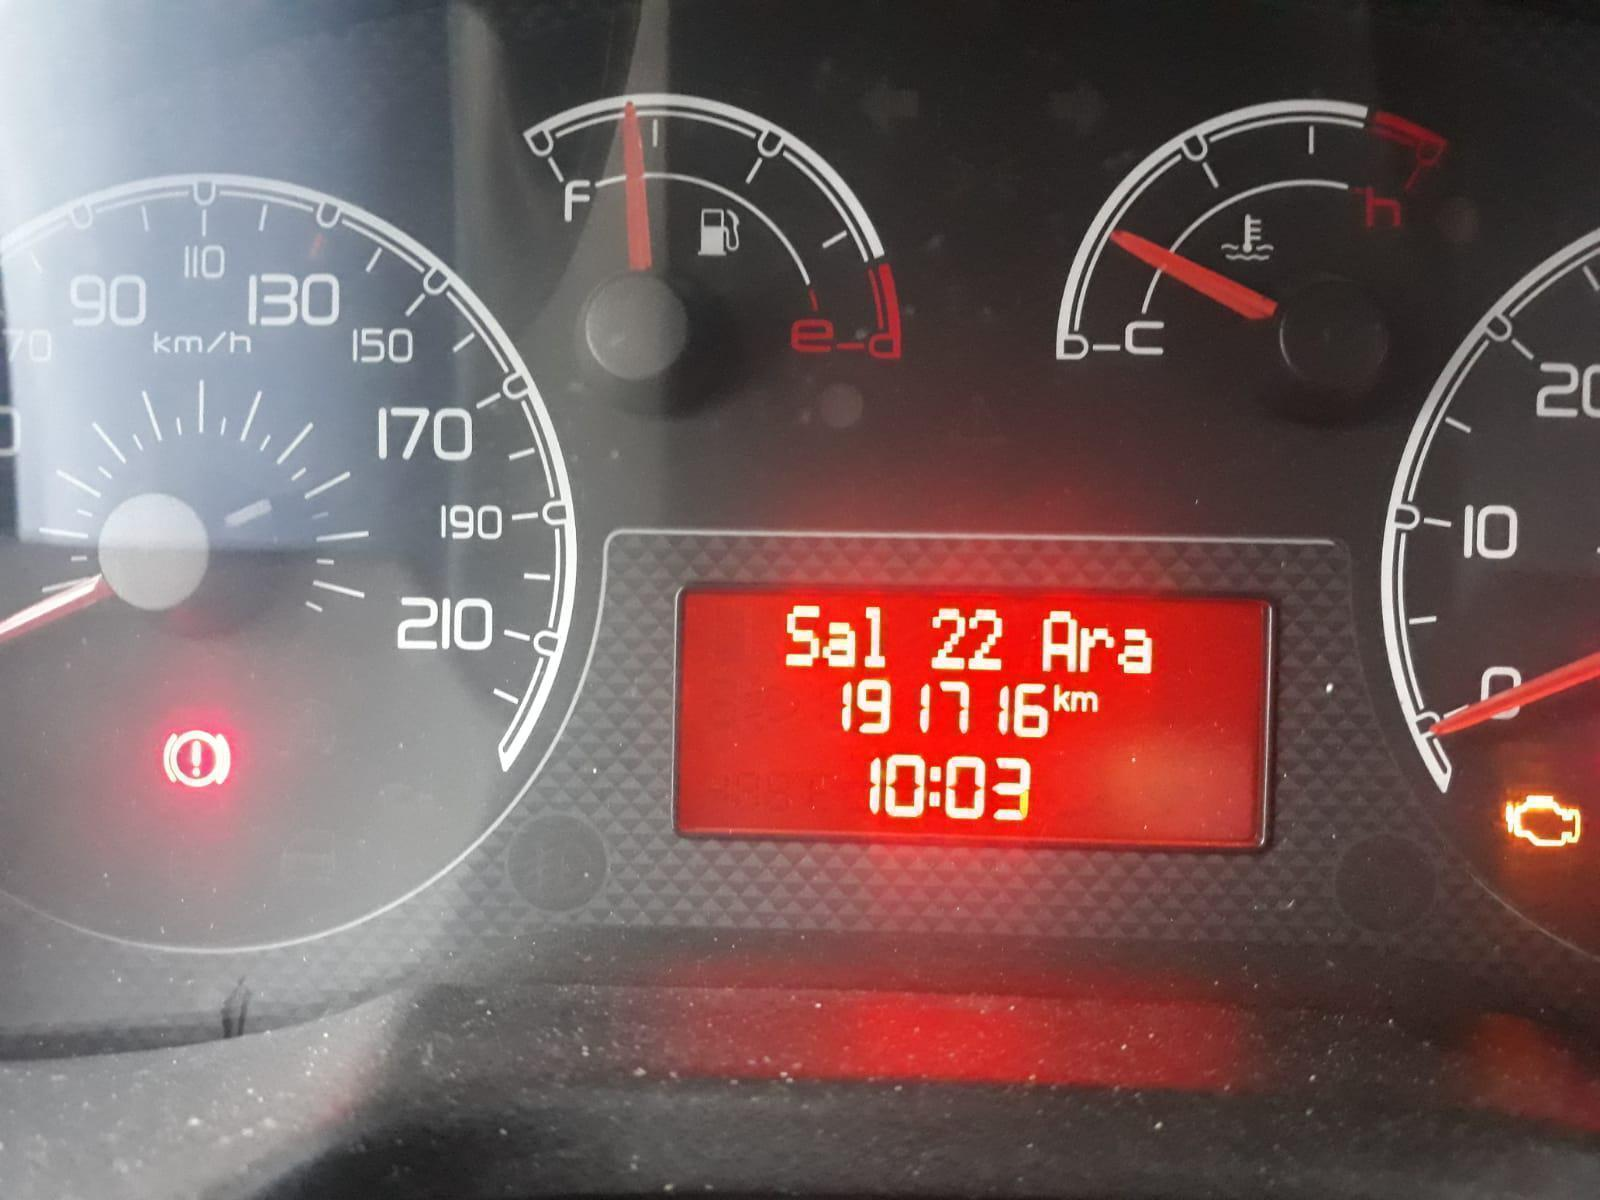0: (884, 750, 923, 821), (945, 753, 983, 823)
1: (838, 674, 855, 734), (864, 753, 881, 816), (997, 681, 1010, 740), (920, 676, 932, 739)
2: (930, 604, 968, 676), (969, 604, 1007, 673)
3: (989, 751, 1036, 822)
6: (1013, 679, 1048, 740)
7: (937, 677, 974, 734)
9: (857, 678, 894, 736)
X: (1041, 601, 1078, 676), (785, 599, 820, 669), (860, 597, 889, 671), (821, 615, 855, 669), (1081, 621, 1116, 673), (1121, 625, 1154, 678), (1071, 687, 1101, 715), (927, 760, 942, 811), (1052, 679, 1070, 716)
odometer: (658, 565, 1296, 865)
